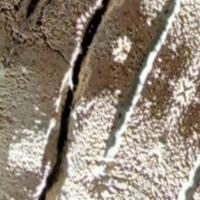crack: (35, 0, 138, 196)
